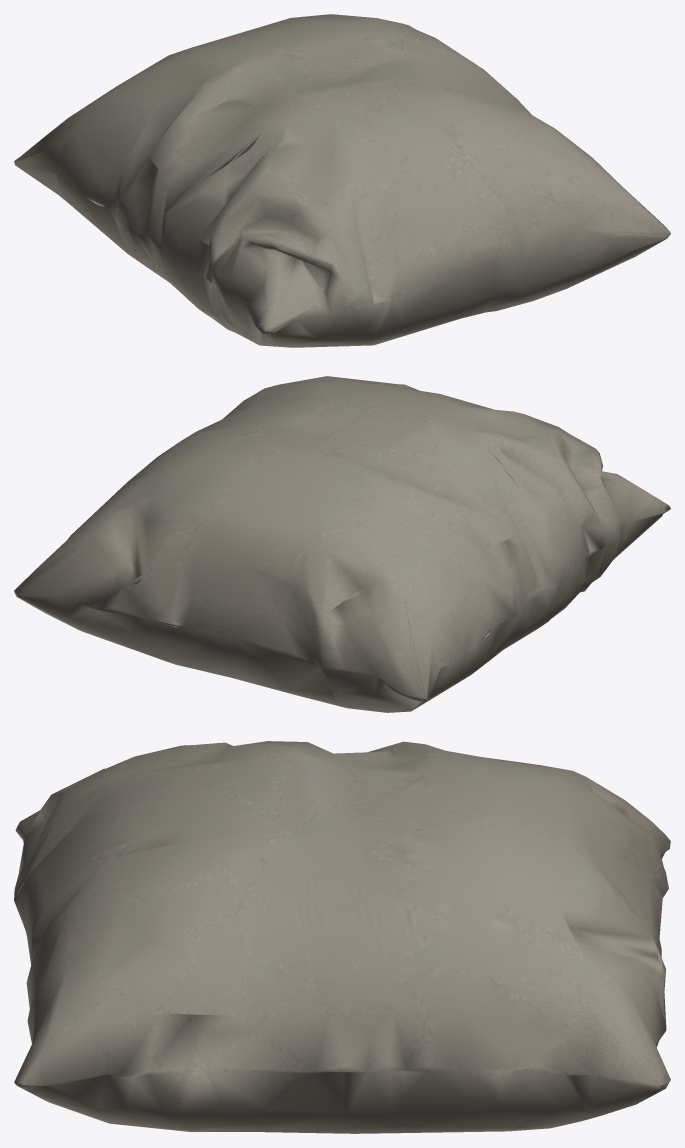
File: relay-field-sandbags.glb
3 renders of one model, top to bottom at view 1: azimuth 30°, elevation 25°; view 2: azimuth 150°, elevation 25°; view 3: azimuth 270°, elevation 25°, orthographic. The views are drawn at different scales.
Parts seen in each view (by area): view 1: Mesh_0; view 2: Mesh_0; view 3: Mesh_0.
Part boxes in pixels (left/top/right/bottom): Mesh_0: left=14, top=14, right=670, bottom=347; Mesh_0: left=14, top=376, right=670, bottom=712; Mesh_0: left=14, top=741, right=670, bottom=1133.
Bounding box in the file's own units: 0.3461 × 0.15 × 0.3641.
1 material, 1 textured.
